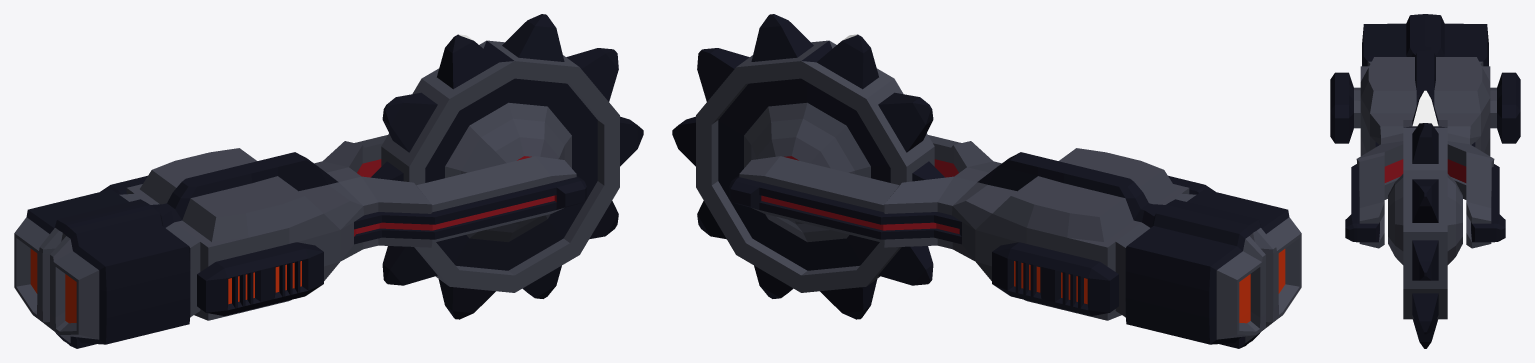
File: Enemy_Melee.fbx
3 renders of one model, left to right at view 1: azimuth 30°, elevation 25°; view 2: azimuth 150°, elevation 25°; view 3: azimuth 270°, elevation 25°, orthographic. The views are drawn at different scales.
Visible parts, largest first — view 1: Enemy_Melee, Enemy_Melee_Blade; view 2: Enemy_Melee, Enemy_Melee_Blade; view 3: Enemy_Melee, Enemy_Melee_Blade.
Boxes of the visible parts, x1,y1,x2,y2 form: Enemy_Melee: [14, 135, 586, 348]; Enemy_Melee_Blade: [371, 14, 643, 319]; Enemy_Melee: [729, 135, 1301, 348]; Enemy_Melee_Blade: [672, 14, 944, 319]; Enemy_Melee: [1330, 14, 1520, 248]; Enemy_Melee_Blade: [1388, 90, 1462, 348].
Size of the model in its own units: 5.38 by 2.45 by 1.87.
